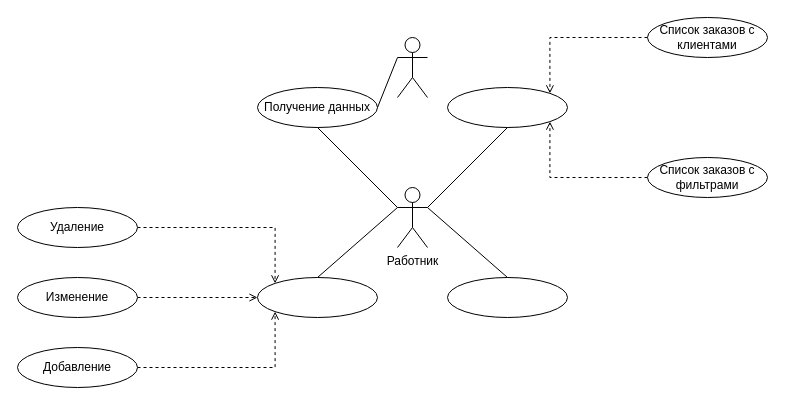
Some shapes in this 785 by 405 pixel diagram are drawn without their labels. The centre of each missing label's shape, as x and y in pixels:
Выборка данных: [507,107]
Заказчик: [412,67]
Редактирование данных: [317,297]
Статистика данных: [507,297]
